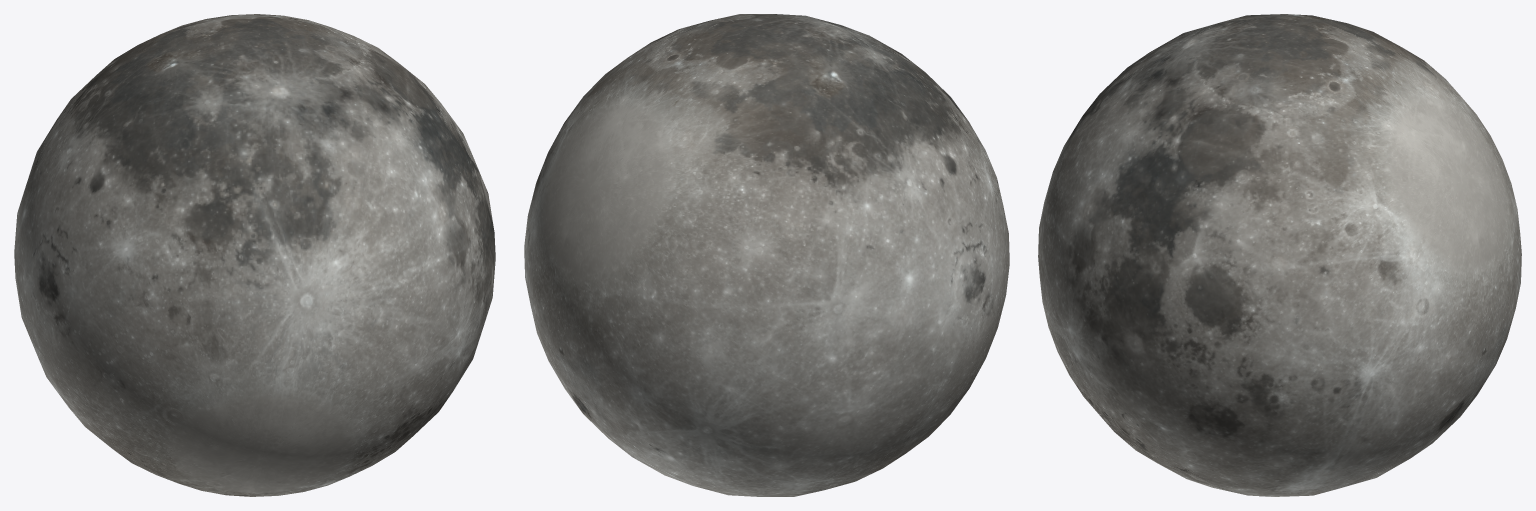
File: moon.gltf
3 views of the same model, side by side, from view 1: azimuth 30°, elevation 25°; view 2: azimuth 150°, elevation 25°; view 3: azimuth 270°, elevation 25° (orthographic).
Visible parts, largest first — view 1: MoonObject; view 2: MoonObject; view 3: MoonObject.
Part boxes in pixels (bbox=[...]): MoonObject: bbox=[14, 14, 495, 496]; MoonObject: bbox=[524, 14, 1009, 496]; MoonObject: bbox=[1038, 14, 1521, 496].
Bounding box in the file's own units: 2 × 2 × 1.99.
Materials: 1 (1 with a texture image).
